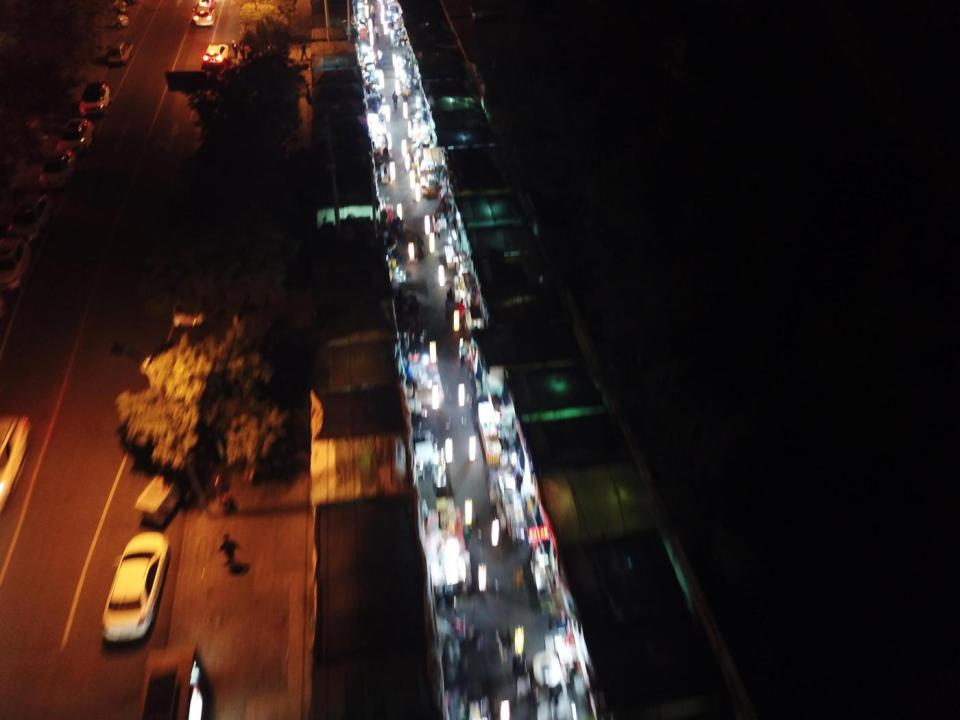bus: (134, 408, 219, 528), (138, 646, 206, 720), (514, 655, 528, 690), (529, 684, 540, 717), (468, 4, 482, 22)
car: (104, 531, 168, 641), (7, 193, 51, 243), (0, 236, 32, 295), (56, 117, 96, 158), (172, 282, 205, 328), (40, 150, 74, 191), (78, 82, 110, 116), (202, 43, 229, 67), (92, 12, 129, 27), (93, 0, 127, 12), (193, 10, 215, 27), (193, 0, 215, 12)
truck: (106, 41, 132, 65)
